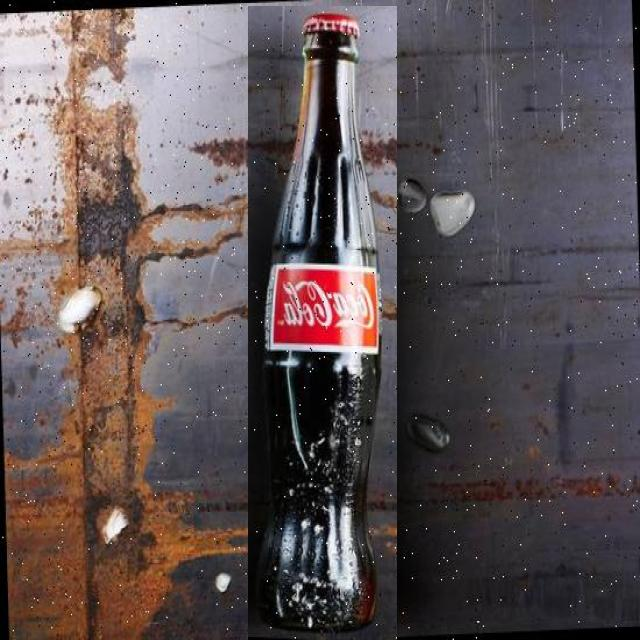coca-cola: (248, 6, 397, 640)
